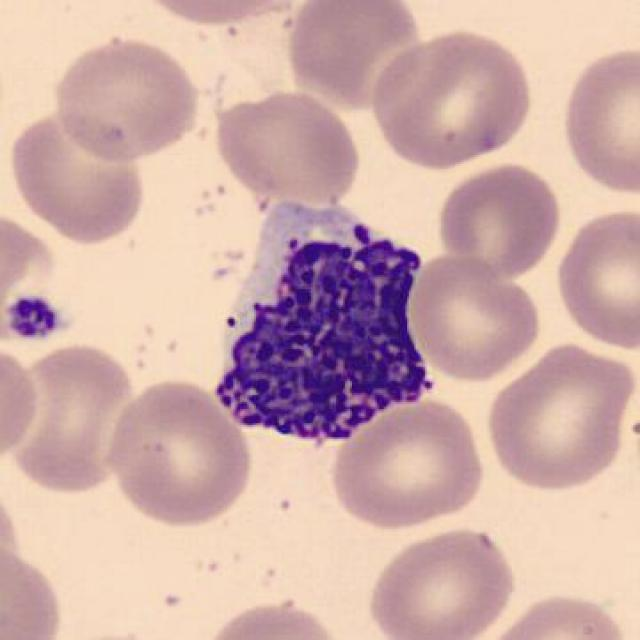Platelets: (2, 291, 64, 342)
RBC: (366, 24, 537, 172), (101, 374, 256, 529), (482, 340, 638, 492), (325, 396, 489, 530), (5, 338, 140, 496), (46, 33, 205, 164), (7, 106, 149, 245), (361, 520, 521, 640), (212, 86, 362, 205), (407, 256, 542, 386), (281, 0, 427, 109), (434, 160, 564, 280), (556, 41, 640, 201), (551, 202, 640, 352), (484, 589, 631, 640), (0, 543, 69, 638), (201, 597, 343, 640), (128, 0, 307, 33), (0, 347, 44, 467)
